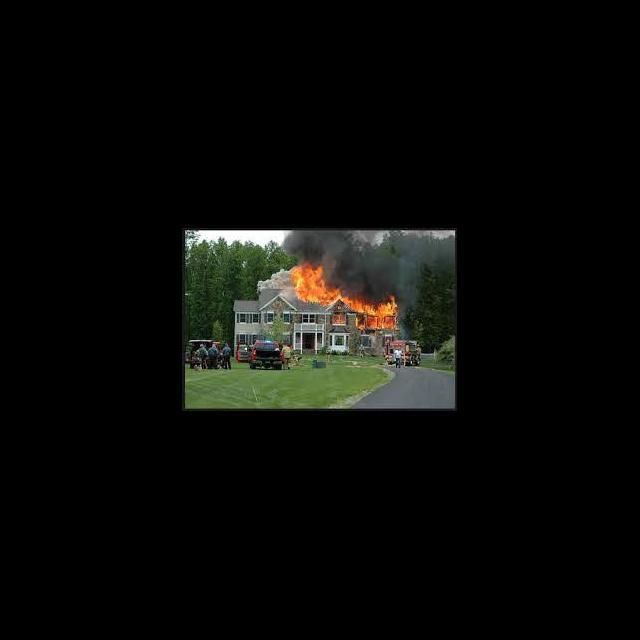Fire: (292, 264, 406, 332)
